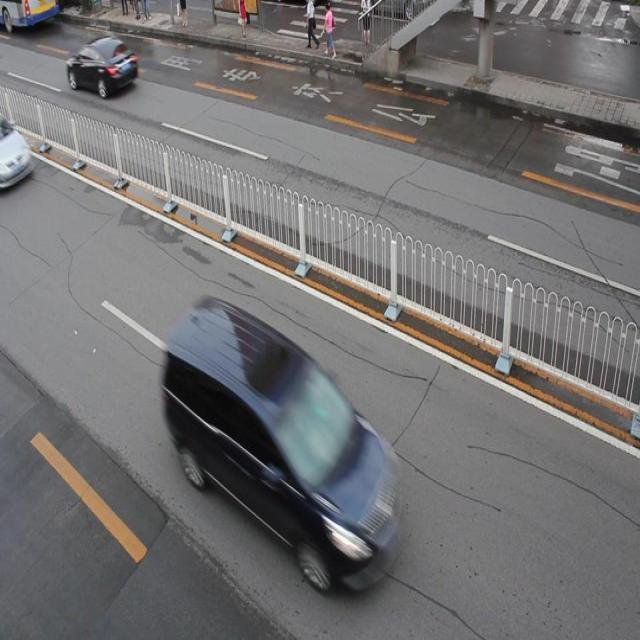car: (66, 33, 139, 97), (1, 118, 36, 190)
truck: (165, 297, 399, 588)
